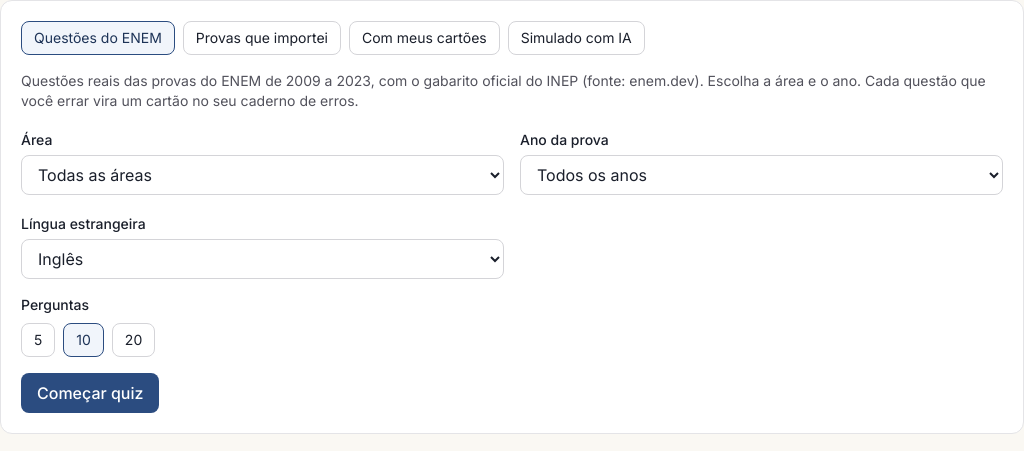
Scenario: quiz com questões reais › ano sem questões avisa em vez de começar
Select "Matemática" in the dropdown labelled "Área": (262, 175) [21, 155, 504, 195]
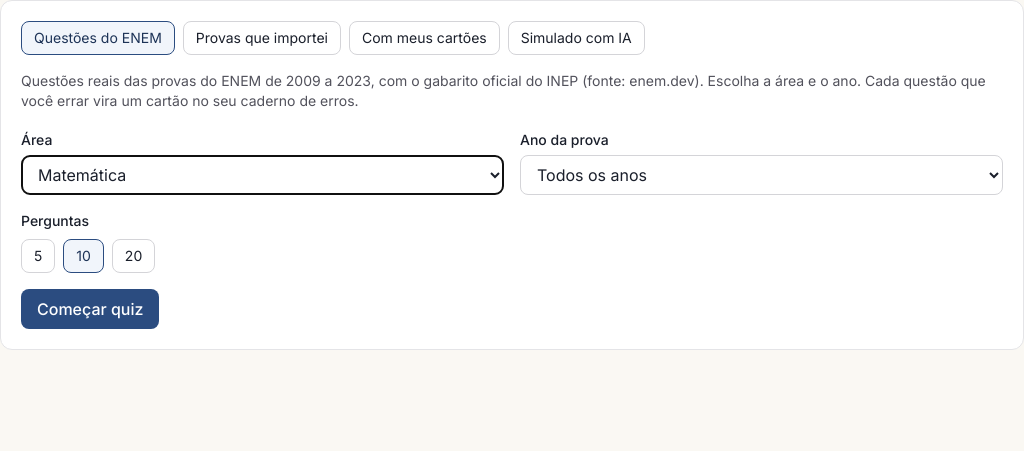
Select "2010" in the dropdown labelled "Ano da prova": (762, 175) [520, 155, 1003, 195]
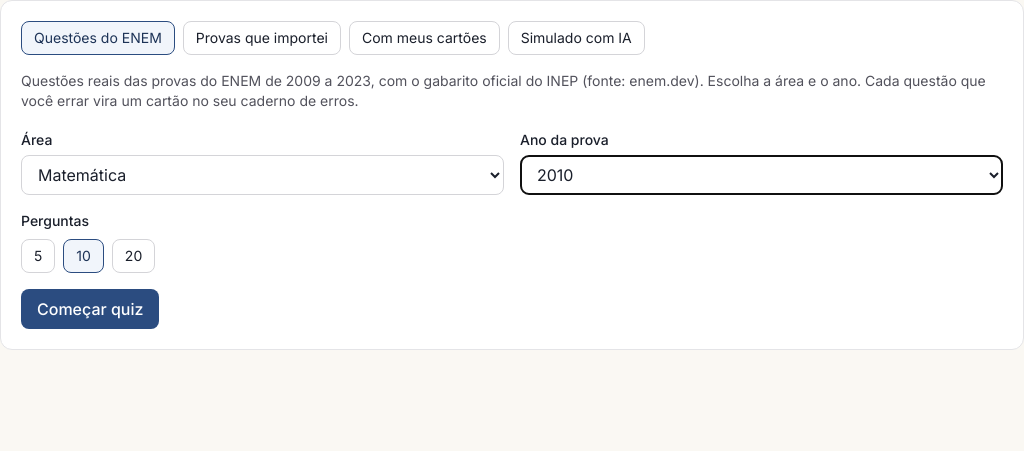
Click the button "Começar quiz": (90, 309) [21, 289, 159, 329]
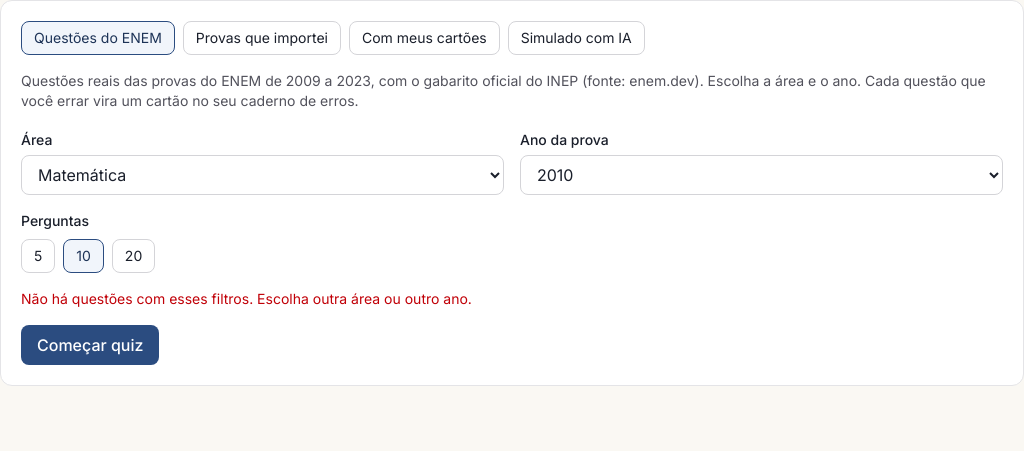
Expected: the message shows "Não há questões com esses filtros", [21, 290, 472, 307]
